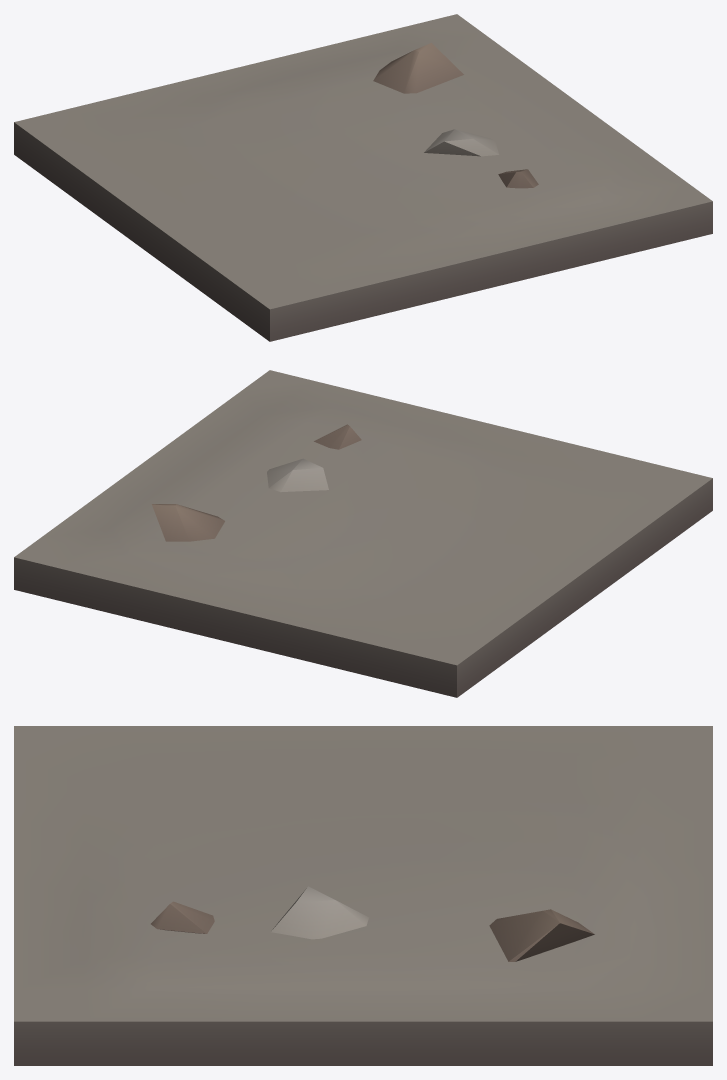
Rendered from floor_cave_small_B.glb.
3 views of the same model, one above another, from view 1: azimuth 30°, elevation 25°; view 2: azimuth 150°, elevation 25°; view 3: azimuth 270°, elevation 25° (orthographic). The views are drawn at different scales.
Visible parts, largest first — view 1: Item; view 2: Item; view 3: Item.
Boxes of the visible parts, left/top/right/bottom form: Item: left=14, top=14, right=712, bottom=341; Item: left=14, top=370, right=712, bottom=697; Item: left=14, top=726, right=712, bottom=1065.
Bounding box in the file's own units: 2 × 0.2789 × 2.
Materials: 1 (1 with a texture image).
